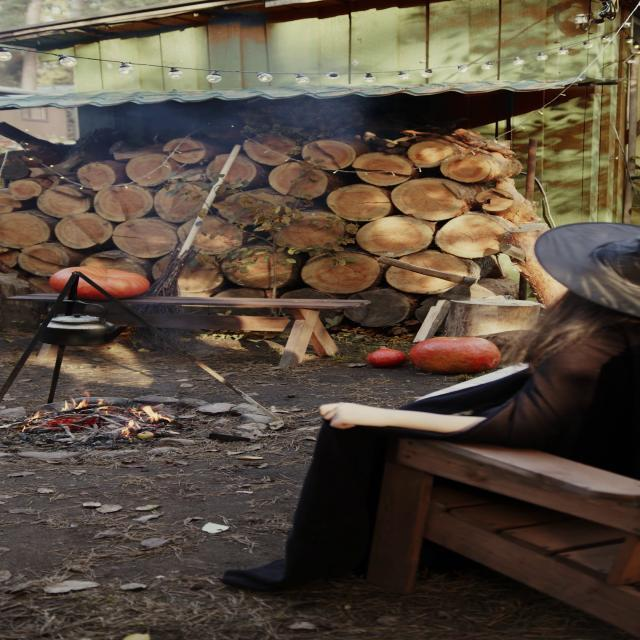Fire: (56, 388, 181, 426)
